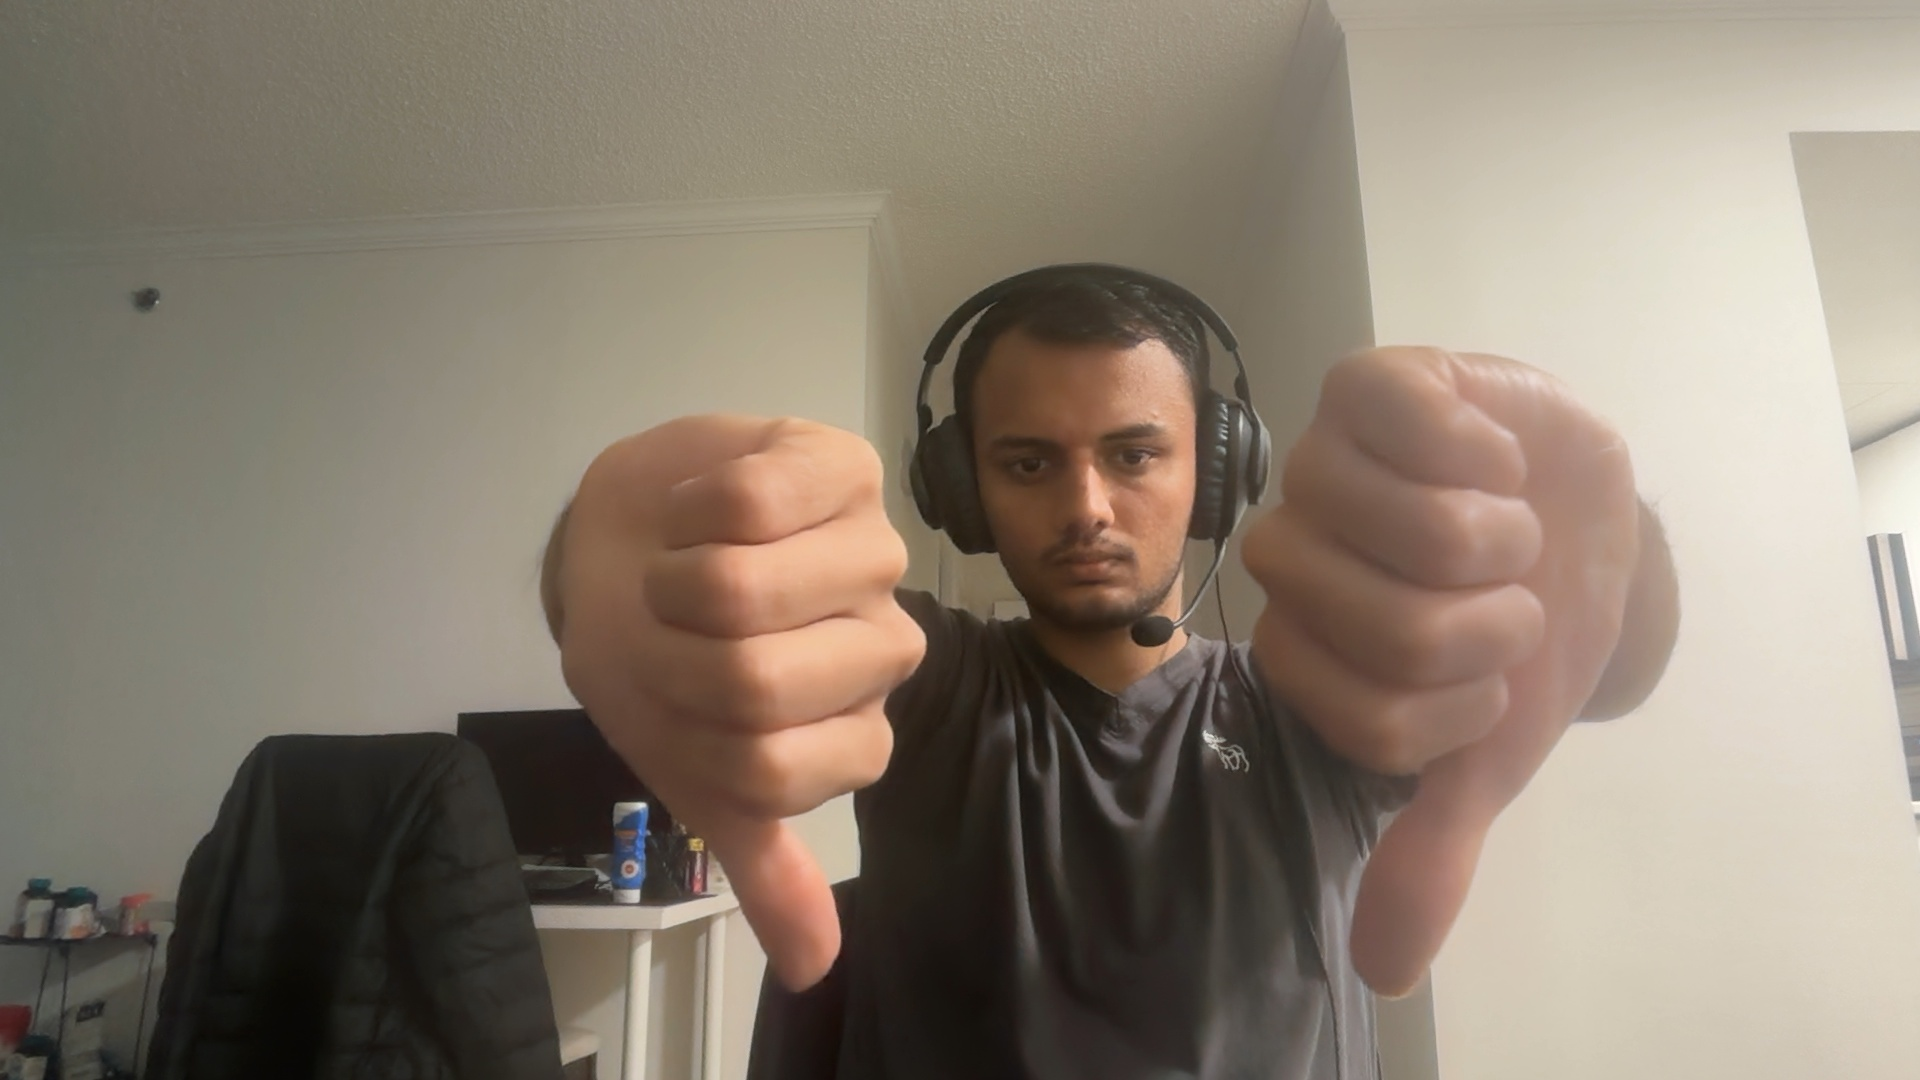thumbsdown: (562, 411, 928, 996)
